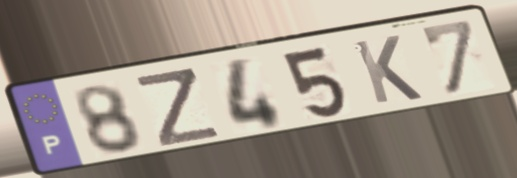4: (223, 55, 286, 132)
5: (277, 42, 352, 120)
7: (418, 17, 479, 99)
8: (74, 82, 143, 156)
K: (349, 32, 427, 107)
Z: (132, 66, 225, 150)
